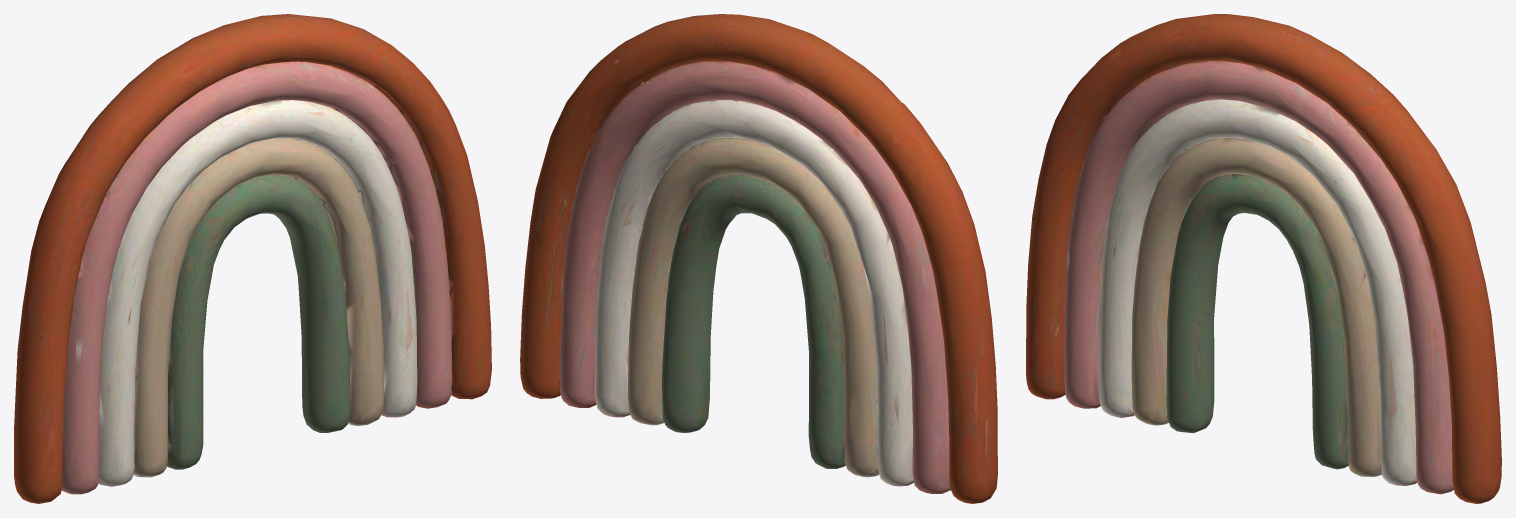
3 views of the same model, side by side, from view 1: azimuth 30°, elevation 25°; view 2: azimuth 150°, elevation 25°; view 3: azimuth 330°, elevation 25° (orthographic).
Size of the model in its own units: 1.9 by 1.65 by 0.197.
1 material, 1 textured.
